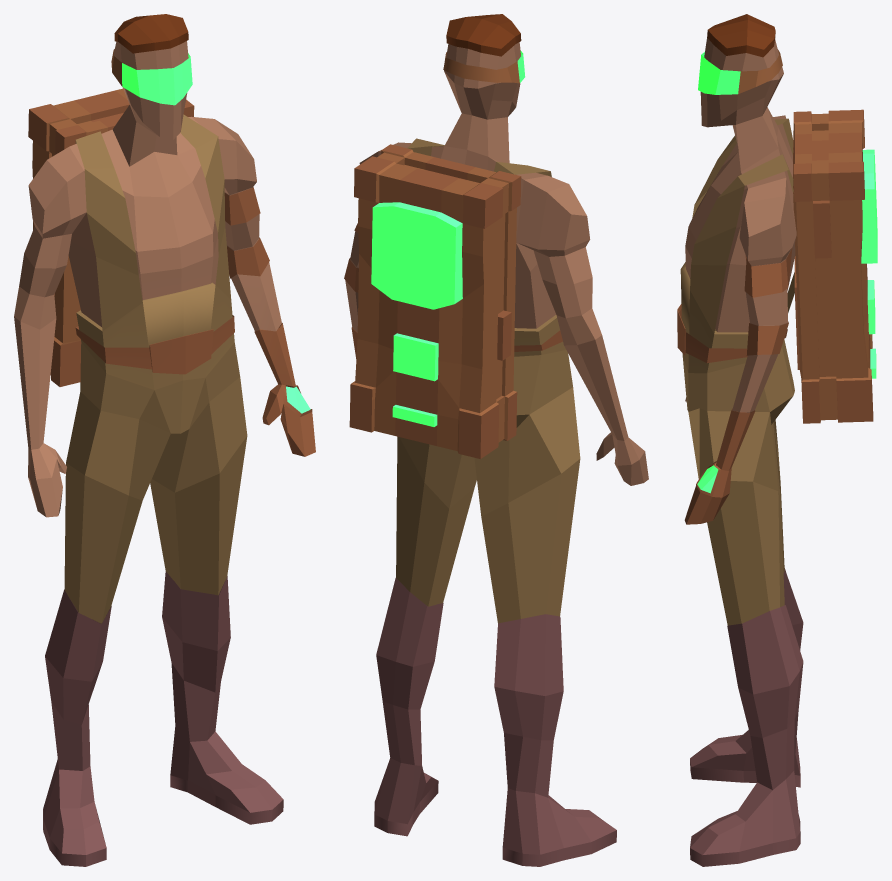
File: undhztjkrzkруфtitled.fbx
3 renders of one model, left to right at view 1: azimuth 30°, elevation 25°; view 2: azimuth 150°, elevation 25°; view 3: azimuth 270°, elevation 25°, orthographic. The views are drawn at different scales.
Parts seen in each view (by area): view 1: Cube, Cube.006; view 2: Cube.006, Cube; view 3: Cube.006, Cube.
Boxes of the visible parts, x1,y1,x2,y2 form: Cube: (43, 114, 283, 866); Cube.006: (14, 14, 315, 517); Cube.006: (344, 14, 648, 485); Cube: (374, 138, 616, 866); Cube.006: (684, 14, 877, 524); Cube: (677, 118, 803, 866).
Bounding box in the file's own units: 89.27 × 249 × 56.93.
